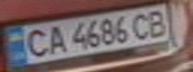4: (66, 19, 87, 51)
6: (112, 14, 136, 44), (84, 17, 103, 48)
8: (97, 16, 118, 47)
A: (42, 22, 69, 55)
B: (142, 7, 172, 38)
C: (18, 26, 51, 59), (127, 9, 157, 40)
